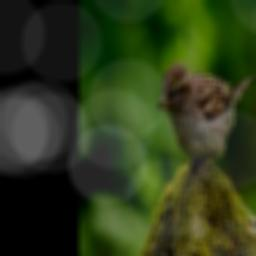Sparrow: (156, 59, 256, 174)
